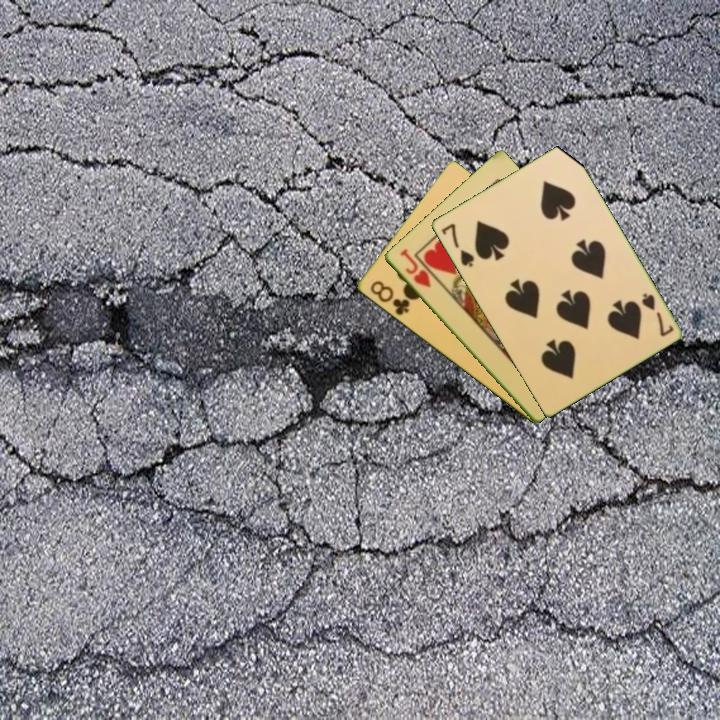7s: (438, 220, 477, 270), (638, 289, 676, 339)
8c: (366, 277, 412, 318)
Jh: (396, 245, 434, 291)
